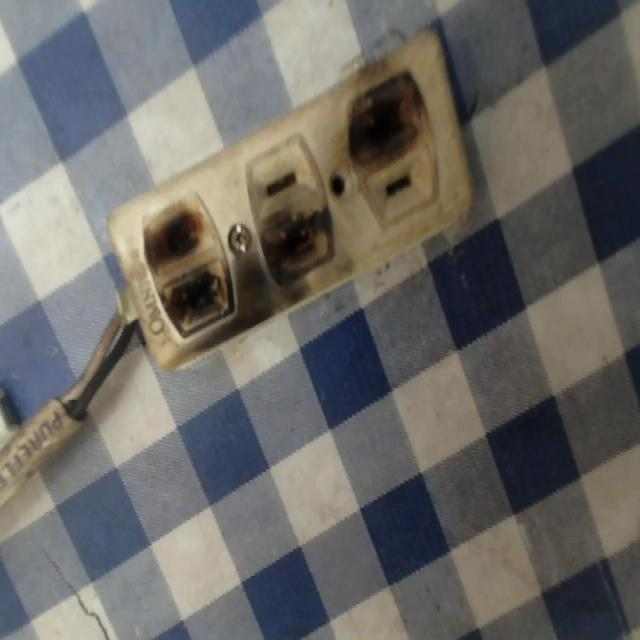-: (137, 183, 233, 345), (335, 74, 434, 170), (251, 207, 336, 292)
